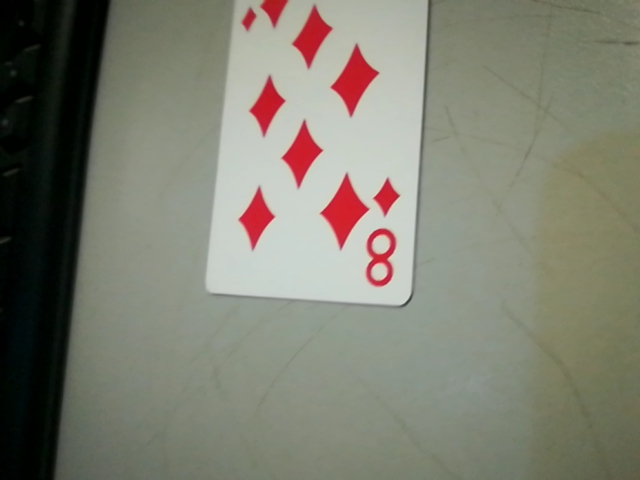fk 8: (356, 170, 413, 302)
